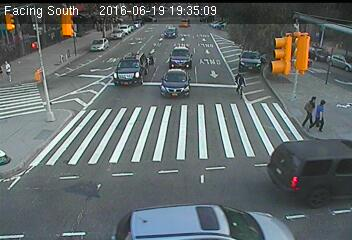neg: (227, 69, 253, 105), (51, 52, 67, 73), (132, 63, 147, 83), (177, 81, 190, 99), (98, 26, 108, 40), (137, 41, 146, 53)
pos: (310, 98, 335, 132), (297, 92, 321, 124)
